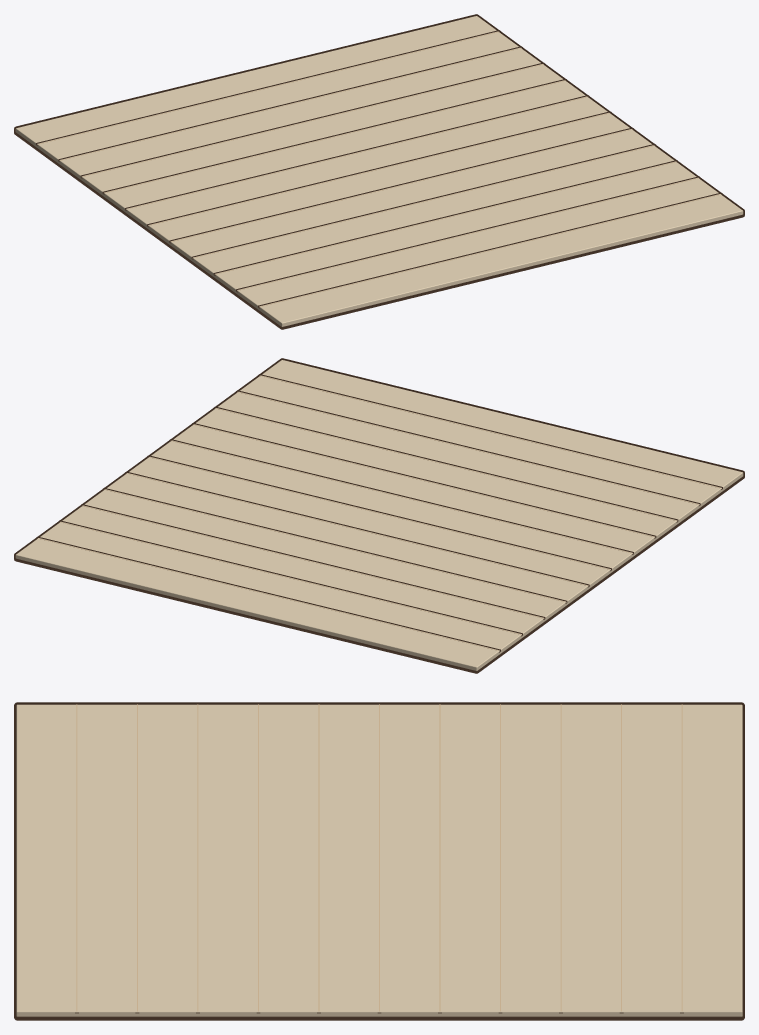
Rendered from piso.glb.
The picture shows the model from 3 angles, top to bottom: view 1: azimuth 30°, elevation 25°; view 2: azimuth 150°, elevation 25°; view 3: azimuth 270°, elevation 25°; orthographic projection. The views are drawn at different scales.
Visible parts, largest first — view 1: piso, piso_outline; view 2: piso, piso_outline; view 3: piso, piso_outline.
Boxes of the visible parts, left/top/right/bottom form: piso: left=15, top=16, right=743, bottom=326; piso_outline: left=14, top=14, right=744, bottom=329; piso: left=15, top=360, right=743, bottom=670; piso_outline: left=14, top=358, right=744, bottom=673; piso: left=16, top=704, right=742, bottom=1016; piso_outline: left=14, top=702, right=744, bottom=1020.
Size of the model in its own units: 6.04 by 0.1046 by 6.04.
